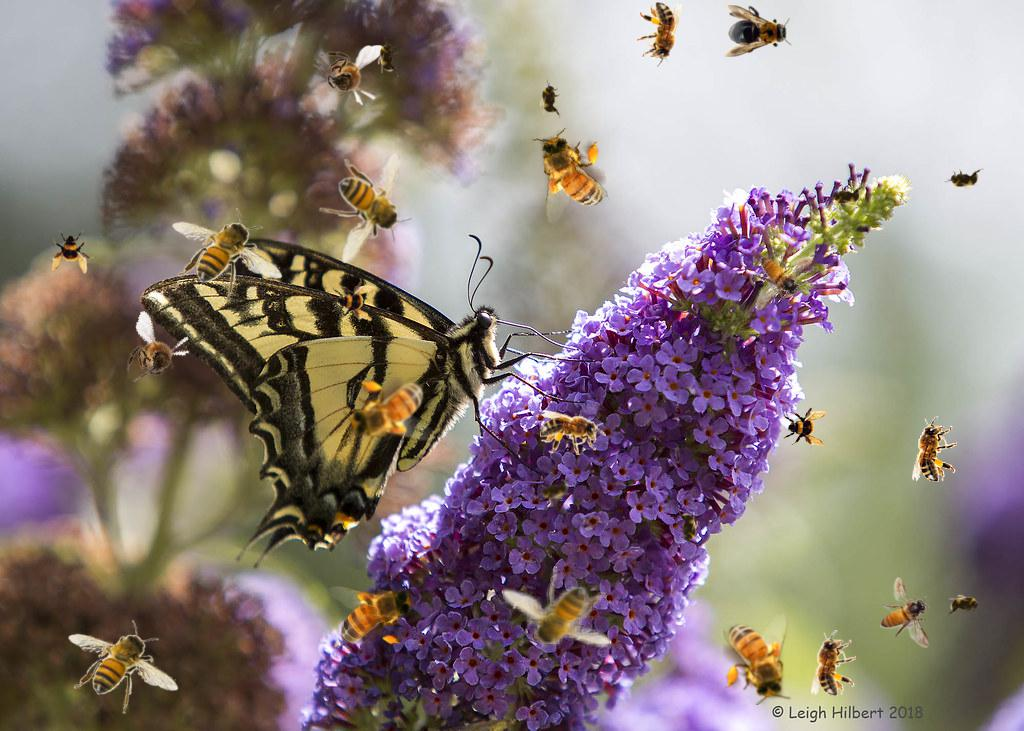Bee: (319, 153, 413, 264), (68, 620, 179, 714), (172, 208, 283, 302), (501, 566, 612, 660), (530, 123, 612, 226), (115, 310, 198, 398), (327, 581, 420, 649), (343, 377, 436, 445), (723, 612, 791, 705), (740, 240, 824, 313), (313, 45, 383, 106), (880, 577, 930, 648), (724, 5, 792, 57), (637, 2, 682, 68), (811, 630, 856, 696), (912, 416, 957, 482), (540, 410, 606, 455), (331, 277, 377, 323), (783, 404, 827, 448), (50, 230, 94, 274), (532, 475, 576, 505), (944, 168, 984, 190), (377, 37, 399, 77), (539, 79, 561, 119), (945, 594, 985, 616), (677, 508, 699, 548), (826, 185, 866, 207)
